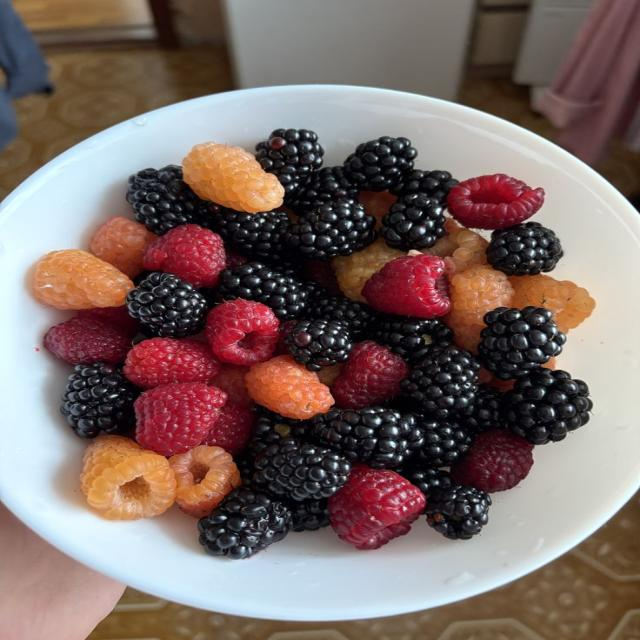raspberry: (328, 465, 426, 549), (81, 436, 175, 519), (303, 407, 424, 468), (183, 143, 284, 213), (502, 369, 593, 444), (198, 487, 292, 559), (134, 383, 226, 455), (479, 306, 566, 379), (127, 166, 219, 234), (254, 438, 351, 501), (60, 363, 139, 438), (34, 250, 133, 309), (446, 265, 513, 352), (401, 346, 479, 419), (362, 254, 450, 318), (285, 199, 377, 260), (246, 356, 333, 419), (144, 224, 226, 288), (447, 174, 544, 228), (127, 272, 207, 337), (452, 429, 533, 493), (219, 262, 308, 320), (332, 341, 409, 408), (169, 445, 239, 518), (510, 275, 595, 333), (207, 299, 279, 365), (124, 338, 219, 388), (256, 128, 324, 195), (334, 239, 405, 302), (211, 210, 291, 263), (370, 314, 453, 363), (487, 222, 563, 275), (90, 216, 155, 277), (44, 318, 130, 364), (344, 137, 417, 191), (80, 435, 144, 494), (380, 194, 446, 250), (427, 485, 492, 539), (286, 320, 353, 371), (287, 167, 359, 214), (307, 297, 375, 340), (203, 401, 256, 456), (249, 408, 306, 458), (412, 420, 472, 467), (391, 170, 458, 204), (464, 384, 506, 435), (445, 228, 488, 277), (77, 305, 139, 337), (399, 462, 453, 498), (212, 365, 253, 408), (421, 217, 463, 257), (359, 191, 396, 227), (305, 261, 342, 296), (291, 499, 329, 531), (302, 280, 328, 317), (273, 320, 298, 356), (234, 451, 254, 486), (318, 364, 343, 387), (226, 247, 248, 268)
